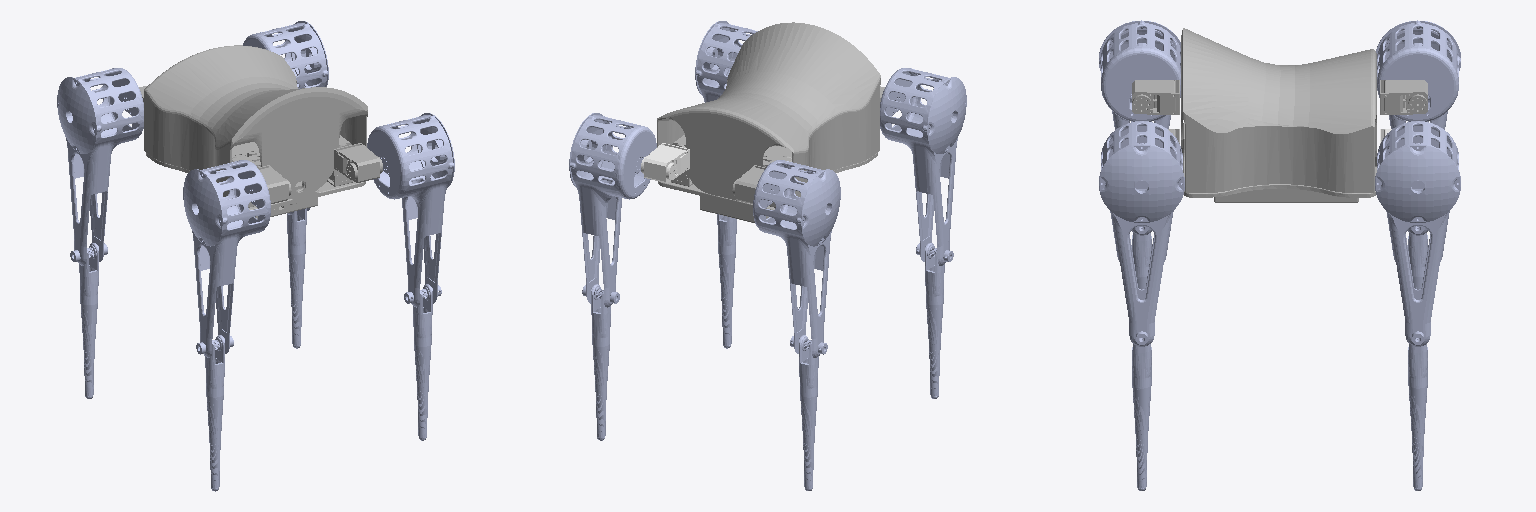
robot.urdf — Ghost:
<?xml version="1.0" encoding="utf-8"?>
<!-- This URDF was automatically created by SolidWorks to URDF Exporter! Originally created by [author] ([email redacted]) 
     Commit Version: 1.5.1-0-g916b5db  Build Version: 1.5.7152.31018
     For more information, please see http://wiki.ros.org/sw_urdf_exporter -->

<!-- _________________ Begin Robot ___________________ -->

<robot
  name="Ghost">
  

<!-- ___________ Body (Link)  -->
  <link
    name="Body">
    <inertial>
      <origin
        xyz="0.081686 -.1955 0.06534"
        rpy="0 0 0" />
      <mass
        value="0.86083" />
      <inertia
        ixx="0.0025003"
        ixy="-1.6852E-07"
        ixz="-3.7135E-07"
        iyy="0.0034272"
        iyz="-0.00010032"
        izz="0.0015331" />
    </inertial>
    <visual>
      <origin
        xyz="0 0 0"
        rpy="0 0 0" />
      <geometry>
        <mesh
          filename="package://Ghost/meshes/Body.STL" />
      </geometry>
      <material
        name="">
        <color
          rgba="0.75294 0.75294 0.75294 1" />
      </material>
    </visual>
    <collision>
      <origin
        xyz="0 0 0"
        rpy="0 0 0" />
      <geometry>
        <mesh
          filename="package://Ghost/meshes/Body.STL" />
      </geometry>
    </collision>
  </link>
  

<!-- ___________ FR_Motor_2 (Link)  -->


  <link
    name="FR_Motor_2">
    <inertial>
      <origin
        xyz="9.012E-07 0.025811 0.00021934"
        rpy="0 0 0" />
      <mass
        value="0.038306" />
      <inertia
        ixx="8.8892E-06"
        ixy="-8.9901E-11"
        ixz="2.9471E-11"
        iyy="5.0029E-06"
        iyz="-6.1827E-09"
        izz="7.6904E-06" />
    </inertial>
    <visual>
      <origin
        xyz="0 0 0"
        rpy="0 0 0" />
      <geometry>
        <mesh
          filename="package://Ghost/meshes/FR_Motor_2.STL" />
      </geometry>
      <material
        name="">
        <color
          rgba="0.75294 0.75294 0.75294 1" />
      </material>
    </visual>
    <collision>
      <origin
        xyz="0 0 0"
        rpy="0 0 0" />
      <geometry>
        <mesh
          filename="package://Ghost/meshes/FR_Motor_2.STL" />
      </geometry>
    </collision>
  </link>
  

<!-- ___________ FR_Motor_1 (Joint)  -->


  <joint
    name="FR_Motor_1"
    type="continuous">
    <origin
      xyz="0.021553 -0.32985 0.11047"
      rpy="3.1416 1.5708 0" />
    <parent
      link="Body" />
    <child
      link="FR_Motor_2" />
    <axis
      xyz="0 1 0" />
    <limit
      effort = "1.67" lower=" -2.356" upper="2.356" velocity= "6.28"  />  <!-- 1.67 Nm , -135 degrees to +135 degrees , 6.28 rad /s -->
  </joint>
  


<!-- ___________ FR_Upper_Leg (Link)  -->

  <link
    name="FR_Upper_Leg">
    <inertial>
      <origin
        xyz="0.0431132690206234 -0.0364815746629018 -3.16730409638533E-06"
        rpy="0 0 0" />
      <mass
        value="0.0963901848077678" />
      <inertia
        ixx="0.000306808055414335"
        ixy="4.17193030669459E-05"
        ixz="1.01691747269023E-10"
        iyy="8.84229592356097E-05"
        iyz="2.58227797233425E-10"
        izz="0.000290892528790761" />
    </inertial>
    <visual>
      <origin
        xyz="0 0 0"
        rpy="0 0 0" />
      <geometry>
        <mesh
          filename="package://Ghost/meshes/FR_Upper_Leg.STL" />
      </geometry>
      <material
        name="">
        <color
          rgba="0.792156862745098 0.819607843137255 0.933333333333333 1" />
      </material>
    </visual>
    <collision>
      <origin
        xyz="0 0 0"
        rpy="0 0 0" />
      <geometry>
        <mesh
          filename="package://Ghost/meshes/FR_Upper_Leg.STL" />
      </geometry>
    </collision>
  </link>
 
<!-- ___________ FR_Motor_2 (Joint)  -->

  <joint
    name="FR_Motor_2"
    type="continuous">
    <origin
      xyz="0 0.0396 0.025"
      rpy="1.5708 -1.5708 0" />
    <parent
      link="FR_Motor_2" />
    <child
      link="FR_Upper_Leg" />
    <axis
      xyz="1 0 0" />
    <limit
      effort = "1.67" lower=" -1.57" upper="1.57" velocity= "6.28"  />  <!-- 1.67 Nm , -90 degrees to +90 degrees , 6.28 rad /s -->
  </joint>
  

<!-- ___________ FR_Lower_Leg (Link)  -->


  <link
    name="FR_Lower_Leg">
    <inertial>
      <origin
        xyz="-0.0143482972130329 -0.0535566873452038 0.0314220181645453"
        rpy="0 0 0" />
      <mass
        value="0.0246858020584698" />
      <inertia
        ixx="5.85321346620422E-05"
        ixy="3.61624024598202E-06"
        ixz="-2.19618075227486E-06"
        iyy="1.70575774276642E-05"
        iyz="2.53776968704124E-05"
        izz="4.36380655433412E-05" />
    </inertial>
    <visual>
      <origin
        xyz="0 0 0"
        rpy="0 0 0" />
      <geometry>
        <mesh
          filename="package://Ghost/meshes/FR_Lower_Leg.STL" />
      </geometry>
      <material
        name="">
        <color
          rgba="0.792156862745098 0.819607843137255 0.933333333333333 1" />
      </material>
    </visual>
    <collision>
      <origin
        xyz="0 0 0"
        rpy="0 0 0" />
      <geometry>
        <mesh
          filename="package://Ghost/meshes/FR_Lower_Leg.STL" />
      </geometry>
    </collision>
  </link>
 
<!-- ___________ FR_Motor_3 (Joint)  -->



  <joint
    name="FR_Motor_3"
    type="continuous">
    <origin
      xyz="0.031832 -0.175 0"
      rpy="-2.6007 -0.044566 -3.0676" />
    <parent
      link="FR_Upper_Leg" />
    <child
      link="FR_Lower_Leg" />
    <axis
      xyz="0.99627 0.086286 0" />

    <limit
      effort = "1.67" lower=" -2.356" upper="2.356" velocity= "6.28"  />  <!-- 1.67 Nm , -135 degrees to +135 degrees , 6.28 rad /s -->

  </joint>
 
<!-- ___________ FR_Motor_2 (Link)  -->


  <link
    name="FL_Motor_2">
    <inertial>
      <origin
        xyz="9.01197057701086E-07 0.0258106475146923 0.000219339271437385"
        rpy="0 0 0" />
      <mass
        value="0.0383058924829271" />
      <inertia
        ixx="8.8892013763251E-06"
        ixy="-8.99008282971522E-11"
        ixz="2.94712337527189E-11"
        iyy="5.00287526627566E-06"
        iyz="-6.18267002550058E-09"
        izz="7.69036723458957E-06" />
    </inertial>
    <visual>
      <origin
        xyz="0 0 0"
        rpy="0 0 0" />
      <geometry>
        <mesh
          filename="package://Ghost/meshes/FL_Motor_2.STL" />
      </geometry>
      <material
        name="">
        <color
          rgba="0.752941176470588 0.752941176470588 0.752941176470588 1" />
      </material>
    </visual>
    <collision>
      <origin
        xyz="0 0 0"
        rpy="0 0 0" />
      <geometry>
        <mesh
          filename="package://Ghost/meshes/FL_Motor_2.STL" />
      </geometry>
    </collision>
  </link>
 
<!-- ___________ FL_Motor_1 (Joint)  -->



 <joint
    name="FL_Motor_1"
    type="continuous">
    <origin
      xyz="0.14155 -0.32985 0.11047"
      rpy="3.1416 -1.5708 0" />
    <parent
      link="Body" />
    <child
      link="FL_Motor_2" />
    <axis
      xyz="0 1 0" />
    <limit
      effort = "1.67" lower=" -2.356" upper="2.356" velocity= "6.28"  />  <!-- 1.67 Nm , -135 degrees to +135 degrees , 6.28 rad /s -->
  </joint>
 

<!-- ___________ FR_Upper_Leg (Links)  -->

  <link
    name="FL_Upper_Leg">
    <inertial>
      <origin
        xyz="0.0431132690206224 -0.0364815746628984 -3.16730409716248E-06"
        rpy="0 0 0" />
      <mass
        value="0.096390184807772" />
      <inertia
        ixx="0.000306808055414351"
        ixy="4.17193030669484E-05"
        ixz="1.01691747851096E-10"
        iyy="8.84229592356119E-05"
        iyz="2.58227796919532E-10"
        izz="0.000290892528790777" />
    </inertial>
    <visual>
      <origin
        xyz="0 0 0"
        rpy="0 0 0" />
      <geometry>
        <mesh
          filename="package://Ghost/meshes/FL_Upper_Leg.STL" />
      </geometry>
      <material
        name="">
        <color
          rgba="0.792156862745098 0.819607843137255 0.933333333333333 1" />
      </material>
    </visual>
    <collision>
      <origin
        xyz="0 0 0"
        rpy="0 0 0" />
      <geometry>
        <mesh
          filename="package://Ghost/meshes/FL_Upper_Leg.STL" />
      </geometry>
    </collision>
  </link>
  
<!-- ___________ FL_Motor_2 (Joint)  -->

  <joint
    name="FL_Motor_2"
    type="continuous">
    <origin
      xyz="0 0.0396 0.025"
      rpy="-1.5708 -1.5708 0" />
    <parent
      link="FL_Motor_2" />
    <child
      link="FL_Upper_Leg" />
    <axis
      xyz="1 0 0" />
    <limit
      effort = "1.67" lower=" -1.57" upper="1.57" velocity= "6.28"  />  <!-- 1.67 Nm , -90 degrees to +90 degrees , 6.28 rad /s -->
  </joint>
  
<!-- ___________ FL_Lower_Leg (Link)  -->

  <link
    name="FL_Lower_Leg">
    <inertial>
      <origin
        xyz="-0.0143482972130327 -0.0535566873452037 0.0314220181645452"
        rpy="0 0 0" />
      <mass
        value="0.0246858020584693" />
      <inertia
        ixx="5.85321346620381E-05"
        ixy="3.61624024598187E-06"
        ixz="-2.19618075227505E-06"
        iyy="1.70575774276613E-05"
        iyz="2.53776968704141E-05"
        izz="4.363806554334E-05" />
    </inertial>
    <visual>
      <origin
        xyz="0 0 0"
        rpy="0 0 0" />
      <geometry>
        <mesh
          filename="package://Ghost/meshes/FL_Lower_Leg.STL" />
      </geometry>
      <material
        name="">
        <color
          rgba="0.792156862745098 0.819607843137255 0.933333333333333 1" />
      </material>
    </visual>
    <collision>
      <origin
        xyz="0 0 0"
        rpy="0 0 0" />
      <geometry>
        <mesh
          filename="package://Ghost/meshes/FL_Lower_Leg.STL" />
      </geometry>
    </collision>
  </link>
 
 <!-- ___________ FL_Motor_3 (Joint)  -->

  <joint
    name="FL_Motor_3"
    type="continuous">
    <origin
      xyz="0.031832 -0.175 0"
      rpy="-2.6007 -0.044566 -3.0676" />
    <parent
      link="FL_Upper_Leg" />
    <child
      link="FL_Lower_Leg" />
    <axis
      xyz="0.99627 0.086286 0" />
    <limit
      effort = "1.67" lower=" -2.356" upper="2.356" velocity= "6.28"  />  <!-- 1.67 Nm , -135 degrees to +135 degrees , 6.28 rad /s -->
  </joint>
  

<!-- ___________ BR_Motor_2 (Link)  -->

  <link
    name="BR_Motor_2">
    <inertial>
      <origin
        xyz="9.01197057839864E-07 -0.023789352485308 0.000219339271437455"
        rpy="0 0 0" />
      <mass
        value="0.0383058924829273" />
      <inertia
        ixx="8.88920137632513E-06"
        ixy="-8.99008283267111E-11"
        ixz="2.94712337578412E-11"
        iyy="5.00287526627567E-06"
        iyz="-6.18267002551345E-09"
        izz="7.6903672345896E-06" />
    </inertial>
    <visual>
      <origin
        xyz="0 0 0"
        rpy="0 0 0" />
      <geometry>
        <mesh
          filename="package://Ghost/meshes/BR_Motor_2.STL" />
      </geometry>
      <material
        name="">
        <color
          rgba="0.752941176470588 0.752941176470588 0.752941176470588 1" />
      </material>
    </visual>
    <collision>
      <origin
        xyz="0 0 0"
        rpy="0 0 0" />
      <geometry>
        <mesh
          filename="package://Ghost/meshes/BR_Motor_2.STL" />
      </geometry>
    </collision>
  </link>
 
<!-- ___________ FB_Motor_1 (Joint)  -->

  <joint
    name="BR_Motor_1"
    type="continuous">
    <origin
      xyz="0.021553 -0.074252 0.11047"
      rpy="0 -1.5708 0" />
    <parent
      link="Body" />
    <child
      link="BR_Motor_2" />
    <axis
      xyz="0 1 0" />
    <limit
      effort = "1.67" lower=" -2.356" upper="2.356" velocity= "6.28"  />  <!-- 1.67 Nm , -135 degrees to +135 degrees , 6.28 rad /s -->
  </joint>

<!-- ___________ FB_Upper_Leg (Links)  -->

  <link
    name="BR_Upper_Leg">
    <inertial>
      <origin
        xyz="0.0431132690206221 -0.0364815746629001 -3.16730409608001E-06"
        rpy="0 0 0" />
      <mass
        value="0.09639018480777" />
      <inertia
        ixx="0.000306808055414342"
        ixy="4.17193030669474E-05"
        ixz="1.01691747630196E-10"
        iyy="8.8422959235611E-05"
        iyz="2.58227795980033E-10"
        izz="0.000290892528790768" />
    </inertial>
    <visual>
      <origin
        xyz="0 0 0"
        rpy="0 0 0" />
      <geometry>
        <mesh
          filename="package://Ghost/meshes/BR_Upper_Leg.STL" />
      </geometry>
      <material
        name="">
        <color
          rgba="0.792156862745098 0.819607843137255 0.933333333333333 1" />
      </material>
    </visual>
    <collision>
      <origin
        xyz="0 0 0"
        rpy="0 0 0" />
      <geometry>
        <mesh
          filename="package://Ghost/meshes/BR_Upper_Leg.STL" />
      </geometry>
    </collision>
  </link>
 

<!-- ___________ BR_Motor_2 (Joint)  -->

  <joint
    name="BR_Motor_2"
    type="continuous">
    <origin
      xyz="0 -0.01 0.025"
      rpy="-1.5708 -1.5708 0" />
    <parent
      link="BR_Motor_2" />
    <child
      link="BR_Upper_Leg" />
    <axis
      xyz="1 0 0" />
    <limit
      effort = "1.67" lower=" -1.57" upper="1.57" velocity= "6.28"  />  <!-- 1.67 Nm , -90 degrees to +90 degrees , 6.28 rad /s -->
  </joint>

<!-- ___________ BR_Lower_Leg (Link)  -->

  <link
    name="BR_Lower_Leg">
    <inertial>
      <origin
        xyz="-0.0143482972130324 -0.0535566873452041 0.0314220181645452"
        rpy="0 0 0" />
      <mass
        value="0.0246858020584697" />
      <inertia
        ixx="5.85321346620371E-05"
        ixy="3.61624024598189E-06"
        ixz="-2.19618075227503E-06"
        iyy="1.70575774276605E-05"
        iyz="2.53776968704146E-05"
        izz="4.36380655433398E-05" />
    </inertial>
    <visual>
      <origin
        xyz="0 0 0"
        rpy="0 0 0" />
      <geometry>
        <mesh
          filename="package://Ghost/meshes/BR_Lower_Leg.STL" />
      </geometry>
      <material
        name="">
        <color
          rgba="0.792156862745098 0.819607843137255 0.933333333333333 1" />
      </material>
    </visual>
    <collision>
      <origin
        xyz="0 0 0"
        rpy="0 0 0" />
      <geometry>
        <mesh
          filename="package://Ghost/meshes/BR_Lower_Leg.STL" />
      </geometry>
    </collision>
  </link>

<!-- ___________ BR_Motor_3 (Joint)  -->

  <joint
    name="BR_Motor_3"
    type="continuous">
    <origin
      xyz="0.031832 -0.175 0"
      rpy="-2.6007 -0.044566 -3.0676" />
    <parent
      link="BR_Upper_Leg" />
    <child
      link="BR_Lower_Leg" />
    <axis
      xyz="0.99627 0.086286 0" />
    <limit
      effort = "1.67" lower=" -2.356" upper="2.356" velocity= "6.28"  />  <!-- 1.67 Nm , -135 degrees to +135 degrees , 6.28 rad /s -->
  </joint>
  


<!-- ___________ BL_Motor_2 (Link)  -->


  <link
    name="BL_Motor_2">
    <inertial>
      <origin
        xyz="0 0 0"
        rpy="0 0 0" />
      <mass
        value="0" />
      <inertia
        ixx="0"
        ixy="0"
        ixz="0"
        iyy="0"
        iyz="0"
        izz="0" />
    </inertial>
    <visual>
      <origin
        xyz="0 0 0"
        rpy="0 0 0" />
      <geometry>
        <mesh
          filename="package://Ghost/meshes/BL_Motor_2.STL" />
      </geometry>
      <material
        name="">
        <color
          rgba="1 1 1 1" />
      </material>
    </visual>
    <collision>
      <origin
        xyz="0 0 0"
        rpy="0 0 0" />
      <geometry>
        <mesh
          filename="package://Ghost/meshes/BL_Motor_2.STL" />
      </geometry>
    </collision>
  </link>
 
<!-- ___________ BL_Motor_1 (Joint)  -->

  <joint
    name="BL_Motor_1"
    type="continuous">
    <origin
      xyz="0.141552930823638 -0.0742519222843941 0.110467637118315"
      rpy="0 1.5707963267949 0" />
    <parent
      link="Body" />
    <child
      link="BL_Motor_2" />
    <axis
      xyz="0 1 0" />
    <limit
      effort = "1.67" lower=" -2.356" upper="2.356" velocity= "6.28"  />  <!-- 1.67 Nm , -135 degrees to +135 degrees , 6.28 rad /s -->
  </joint>
 

<!-- ___________ BL_Upper_Leg (Link)  -->

  <link
    name="BL_Upper_Leg">
    <inertial>
      <origin
        xyz="0.0431132690206223 -0.0364815746629001 -3.16730409676003E-06"
        rpy="0 0 0" />
      <mass
        value="0.09639018480777" />
      <inertia
        ixx="0.000306808055414343"
        ixy="4.17193030669478E-05"
        ixz="1.01691748114645E-10"
        iyy="8.84229592356104E-05"
        iyz="2.582277956449E-10"
        izz="0.000290892528790769" />
    </inertial>
    <visual>
      <origin
        xyz="0 0 0"
        rpy="0 0 0" />
      <geometry>
        <mesh
          filename="package://Ghost/meshes/BL_Upper_Leg.STL" />
      </geometry>
      <material
        name="">
        <color
          rgba="0.792156862745098 0.819607843137255 0.933333333333333 1" />
      </material>
    </visual>
    <collision>
      <origin
        xyz="0 0 0"
        rpy="0 0 0" />
      <geometry>
        <mesh
          filename="package://Ghost/meshes/BL_Upper_Leg.STL" />
      </geometry>
    </collision>
  </link>
  

<!-- ___________ BL_Motor_2 (Joint)  -->

  <joint
    name="BL_Motor_2"
    type="continuous">
    <origin
      xyz="0 -0.01 0.025"
      rpy="1.5708 -1.5708 0" />
    <parent
      link="BL_Motor_2" />
    <child
      link="BL_Upper_Leg" />
    <axis
      xyz="1 0 0" />
    <limit
      effort = "1.67" lower=" -1.57" upper="1.57" velocity= "6.28"  />  <!-- 1.67 Nm , -90 degrees to +90 degrees , 6.28 rad /s -->
  </joint>
  

<!-- ___________ BL_Lower_Leg (Link)  -->

  <link
    name="BL_Lower_Leg">
    <inertial>
      <origin
        xyz="-0.0143482972130323 -0.0535566873452034 0.0314220181645477"
        rpy="0 0 0" />
      <mass
        value="0.0246858020584695" />
      <inertia
        ixx="5.85321346620351E-05"
        ixy="3.61624024598192E-06"
        ixz="-2.19618075227507E-06"
        iyy="1.70575774276589E-05"
        iyz="2.53776968704157E-05"
        izz="4.36380655433395E-05" />
    </inertial>
    <visual>
      <origin
        xyz="0 0 0"
        rpy="0 0 0" />
      <geometry>
        <mesh
          filename="package://Ghost/meshes/BL_Lower_Leg.STL" />
      </geometry>
      <material
        name="">
        <color
          rgba="0.792156862745098 0.819607843137255 0.933333333333333 1" />
      </material>
    </visual>
    <collision>
      <origin
        xyz="0 0 0"
        rpy="0 0 0" />
      <geometry>
        <mesh
          filename="package://Ghost/meshes/BL_Lower_Leg.STL" />
      </geometry>
    </collision>
  </link>
  
<!-- ___________ BL_Motor_3 (Joint)  -->

  <joint
    name="BL_Motor_3"
    type="continuous">
    <origin
      xyz="0.031832 -0.175 0"
      rpy="-2.6007 -0.044566 -3.0676" />
    <parent
      link="BL_Upper_Leg" />
    <child
      link="BL_Lower_Leg" />
    <axis
      xyz="0.99627 0.086286 0" />
    <limit
      effort = "1.67" lower=" -2.356" upper="2.356" velocity= "6.28"  />  <!-- 1.67 Nm , -135 degrees to +135 degrees , 6.28 rad /s -->
  </joint>
</robot>

--- What the picture shows (computed from the rendered views, not written in the file) ---
The picture shows the robot from 3 angles, left to right: view 1: azimuth 30°, elevation 25°; view 2: azimuth 150°, elevation 25°; view 3: azimuth 270°, elevation 25°; orthographic projection.
Robot: Ghost — 13 links, 12 joints (12 continuous); root link Body; default pose: every joint at zero.
Visible links, largest first — view 1: Body, FR_Upper_Leg, BR_Upper_Leg, FL_Upper_Leg, BL_Upper_Leg, FR_Lower_Leg, FL_Lower_Leg, BR_Lower_Leg, BL_Lower_Leg, FL_Motor_2, FR_Motor_2; view 2: Body, BR_Upper_Leg, FR_Upper_Leg, BL_Upper_Leg, FL_Upper_Leg, BR_Lower_Leg, BL_Lower_Leg, FR_Lower_Leg, FL_Lower_Leg, BL_Motor_2, BR_Motor_2; view 3: Body, FL_Upper_Leg, BL_Upper_Leg, BR_Upper_Leg, FR_Upper_Leg, FL_Lower_Leg, BL_Lower_Leg, FR_Motor_2, BR_Motor_2, BR_Lower_Leg, FR_Lower_Leg.
Boxes of the visible links, x1,y1,x2,y2 form: Body: (144, 45, 367, 218); FR_Upper_Leg: (183, 160, 270, 357); BR_Upper_Leg: (57, 68, 143, 265); FL_Upper_Leg: (367, 113, 454, 307); BL_Upper_Leg: (243, 21, 328, 214); FR_Lower_Leg: (205, 335, 224, 491); FL_Lower_Leg: (413, 284, 432, 440); BR_Lower_Leg: (79, 243, 98, 398); BL_Lower_Leg: (287, 208, 306, 348); FL_Motor_2: (334, 143, 382, 182); FR_Motor_2: (258, 165, 291, 203); Body: (657, 22, 880, 222); BR_Upper_Leg: (753, 160, 840, 357); FR_Upper_Leg: (880, 68, 966, 265); BL_Upper_Leg: (569, 113, 656, 307); FL_Upper_Leg: (695, 21, 757, 102); BR_Lower_Leg: (799, 335, 818, 490); BL_Lower_Leg: (591, 284, 610, 440); FR_Lower_Leg: (925, 243, 944, 398); FL_Lower_Leg: (717, 214, 736, 348); BL_Motor_2: (641, 143, 689, 182); BR_Motor_2: (732, 165, 765, 203); Body: (1181, 28, 1376, 202); FL_Upper_Leg: (1099, 121, 1184, 346); BL_Upper_Leg: (1375, 121, 1460, 346); BR_Upper_Leg: (1376, 20, 1460, 235); FR_Upper_Leg: (1099, 20, 1180, 235); FL_Lower_Leg: (1132, 337, 1151, 490); BL_Lower_Leg: (1408, 337, 1427, 490); FR_Motor_2: (1132, 80, 1179, 114); BR_Motor_2: (1380, 80, 1427, 114); BR_Lower_Leg: (1408, 226, 1427, 289); FR_Lower_Leg: (1132, 226, 1151, 289).
Size in the robot's own frame: 0.3231 by 0.3747 by 0.4529 metres.
13 mesh visuals loaded from 13 distinct referenced files (13 binary STL).